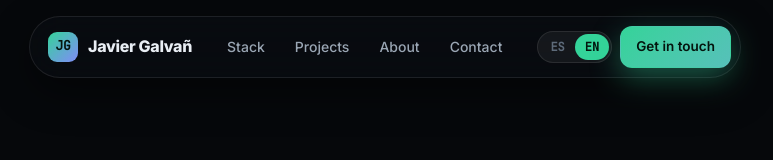
Test: Nav › switches back to Spanish
Click the button "ES": [558, 47] box [540,34,575,60]
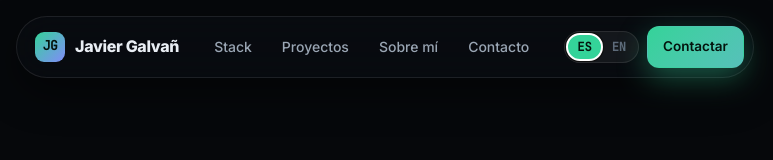
Expected: the link "Proyectos" is shown, [282,38,349,55]
